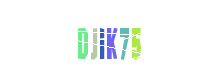5: (96, 0, 176, 80)
7: (71, 0, 151, 80)
D: (58, 0, 138, 80)
I: (64, 0, 144, 80)
J: (61, 0, 141, 80)
K: (70, 0, 150, 80)
